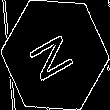N_NE: (27, 26, 83, 84)
